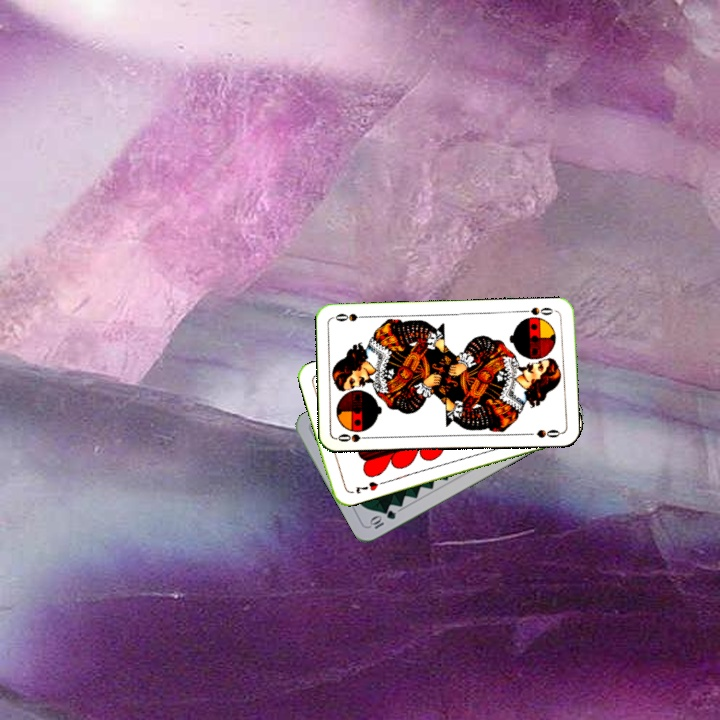G10: (366, 506, 399, 532)
H7: (352, 477, 381, 496)
SO: (334, 430, 374, 445), (527, 303, 559, 318)
